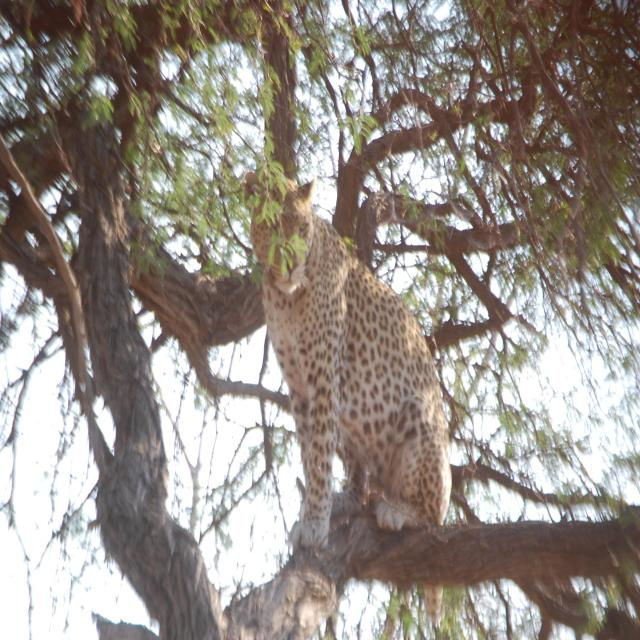Leopard: (223, 164, 489, 559)
